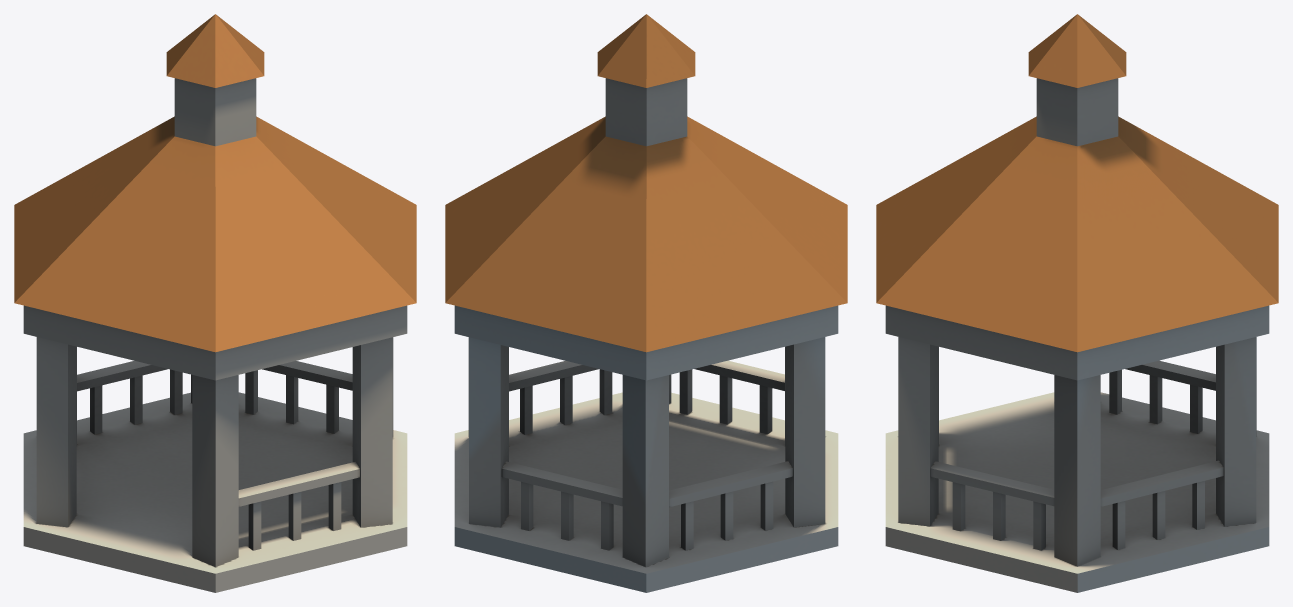
The model's file is PUSHILIN_gazebo.gltf.
3 renders of one model, left to right at view 1: azimuth 30°, elevation 25°; view 2: azimuth 150°, elevation 25°; view 3: azimuth 270°, elevation 25°, orthographic.
Visible parts, largest first — view 1: node-0; view 2: node-0; view 3: node-0.
Part boxes in pixels (x1,y1,x2,y2): node-0: (14, 14, 416, 592); node-0: (445, 14, 847, 592); node-0: (876, 14, 1278, 592).
Bounding box in the file's own units: 1.89 × 2.18 × 1.64.
Materials: 1 (1 with a texture image).
